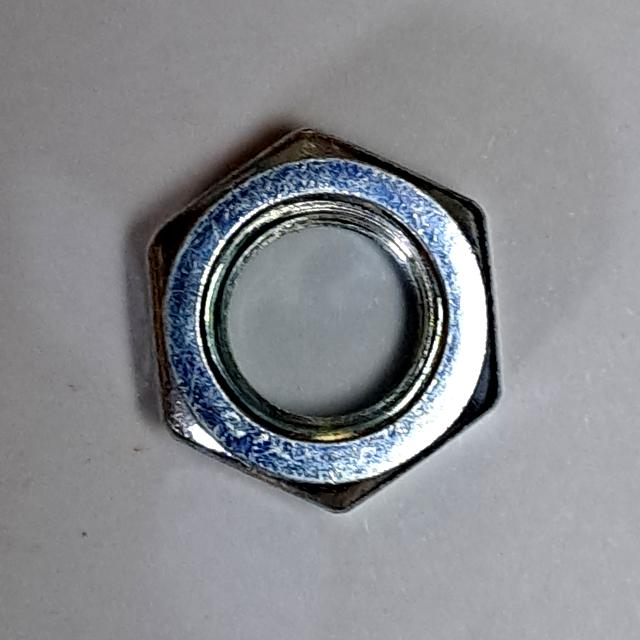Excellent: (128, 113, 520, 522)
